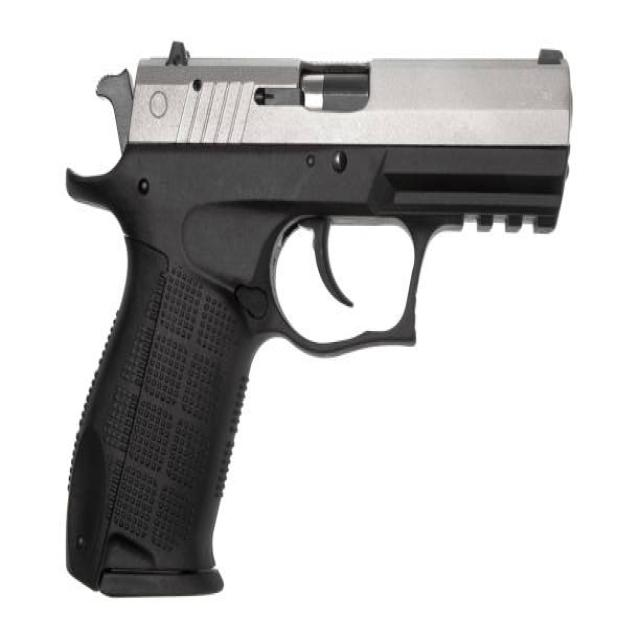pistol: (58, 30, 581, 608)
